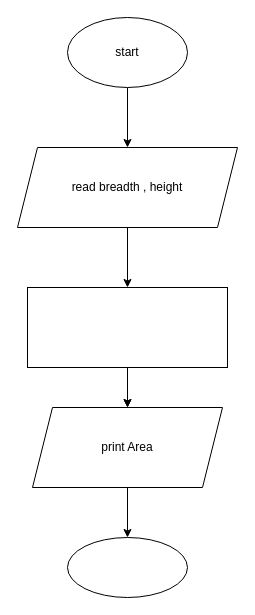
The diagram is 255 pixels wide and 615 high, and some of its shapes have lost their labels. Here are the shapes that lost their labels. From the top down, the centre of each, then its label:
the point at 127,327: Area = 1 / 2 * breadth * height
the point at 127,567: stop
